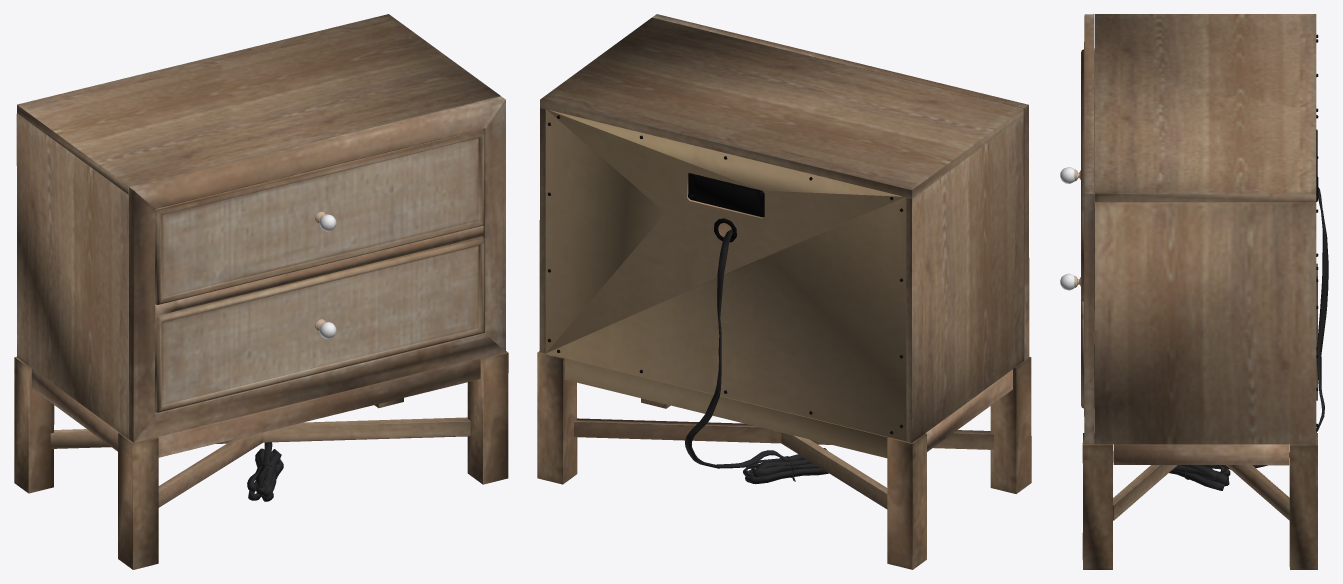
The picture shows the model from 3 angles, left to right: view 1: azimuth 30°, elevation 25°; view 2: azimuth 150°, elevation 25°; view 3: azimuth 270°, elevation 25°; orthographic projection.
Parts seen in each view (by area): view 1: visual_RootNode; view 2: visual_RootNode; view 3: visual_RootNode.
Boxes of the visible parts, bbox=[...] form: visual_RootNode: bbox=[14, 14, 508, 569]; visual_RootNode: bbox=[537, 14, 1031, 569]; visual_RootNode: bbox=[1060, 14, 1328, 569].
Bounding box in the file's own units: 0.7623 × 0.4765 × 0.7354.
1 material, 1 textured.
